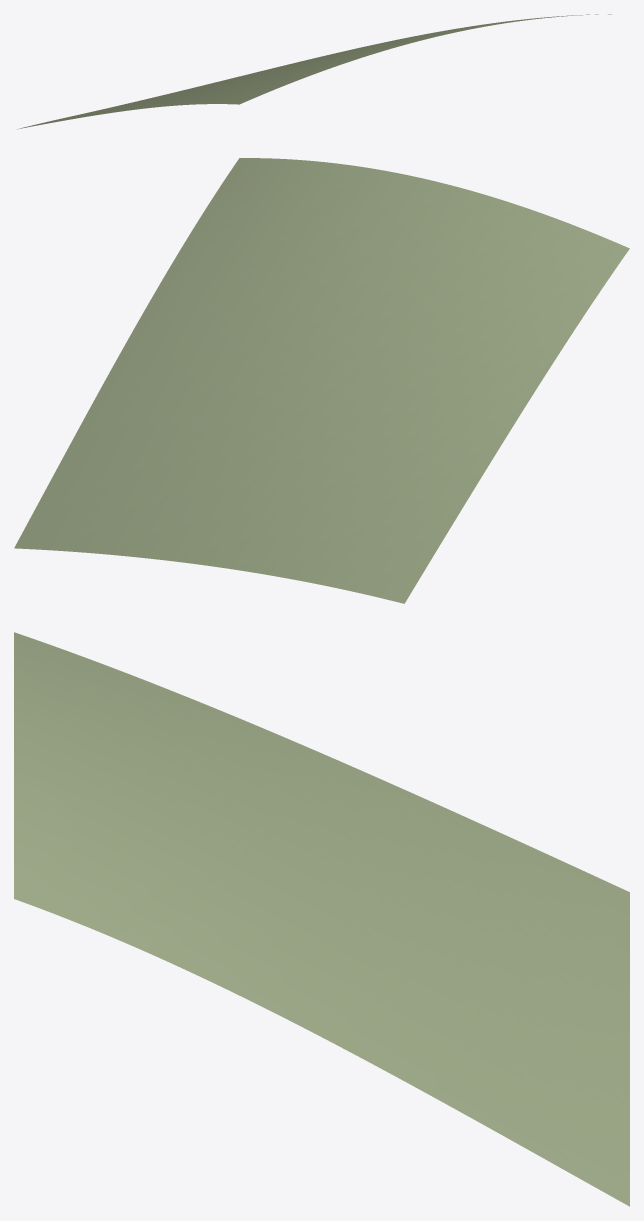
The model's file is alpine-14-8.glb.
3 views of the same model, one above another, from view 1: azimuth 30°, elevation 25°; view 2: azimuth 150°, elevation 25°; view 3: azimuth 270°, elevation 25° (orthographic). The views are drawn at different scales.
Visible parts, largest first — view 1: alpine-14-8; view 2: alpine-14-8; view 3: alpine-14-8.
Part boxes in pixels (box(x1,y1,x2,y2)): alpine-14-8: box(17, 14, 611, 129); alpine-14-8: box(14, 158, 629, 603); alpine-14-8: box(14, 632, 629, 1206).
Size of the model in its own units: 256 by 156 by 256.
